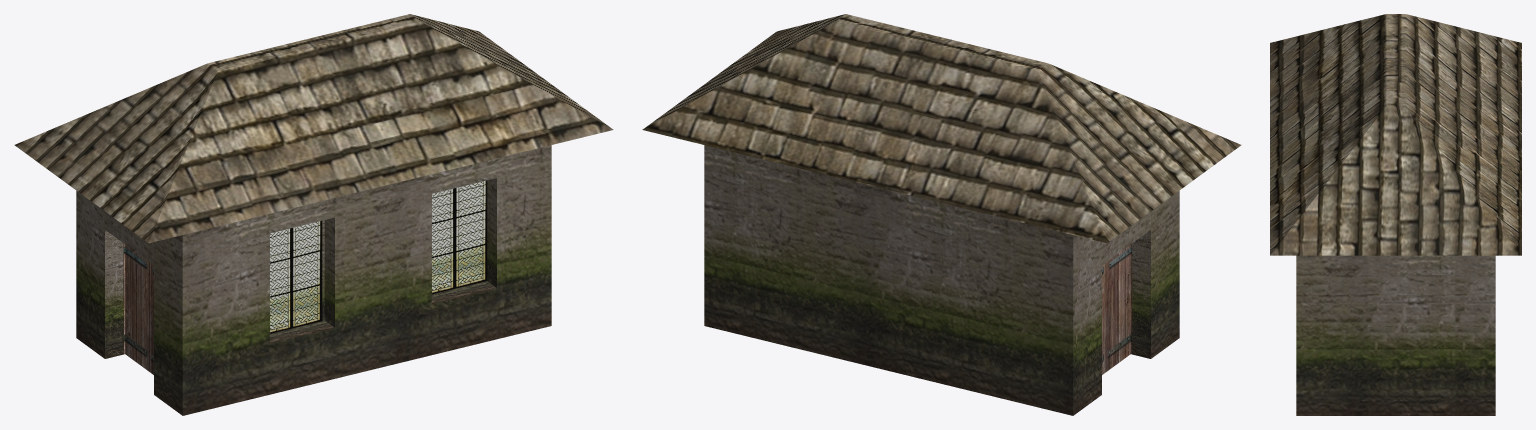
Rendered from House.obj.
3 views of the same model, side by side, from view 1: azimuth 30°, elevation 25°; view 2: azimuth 150°, elevation 25°; view 3: azimuth 270°, elevation 25° (orthographic). The views are drawn at different scales.
Parts seen in each view (by area): view 1: Box001; view 2: Box001; view 3: Box001.
Boxes of the visible parts, x1=… form: Box001: x1=14, y1=14, x2=613, y2=415; Box001: x1=642, y1=14, x2=1241, y2=415; Box001: x1=1270, y1=14, x2=1521, y2=415.
Size of the model in its own units: 25.22 by 15 by 12.62.
1 material, 1 textured.
